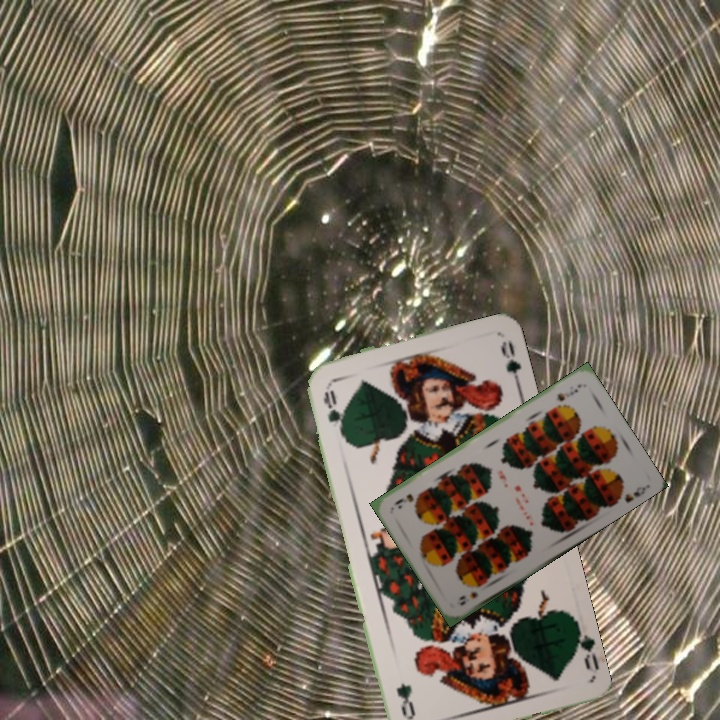GO: (568, 618, 600, 673), (319, 386, 348, 440)
S9: (553, 380, 584, 404), (455, 588, 481, 608)
